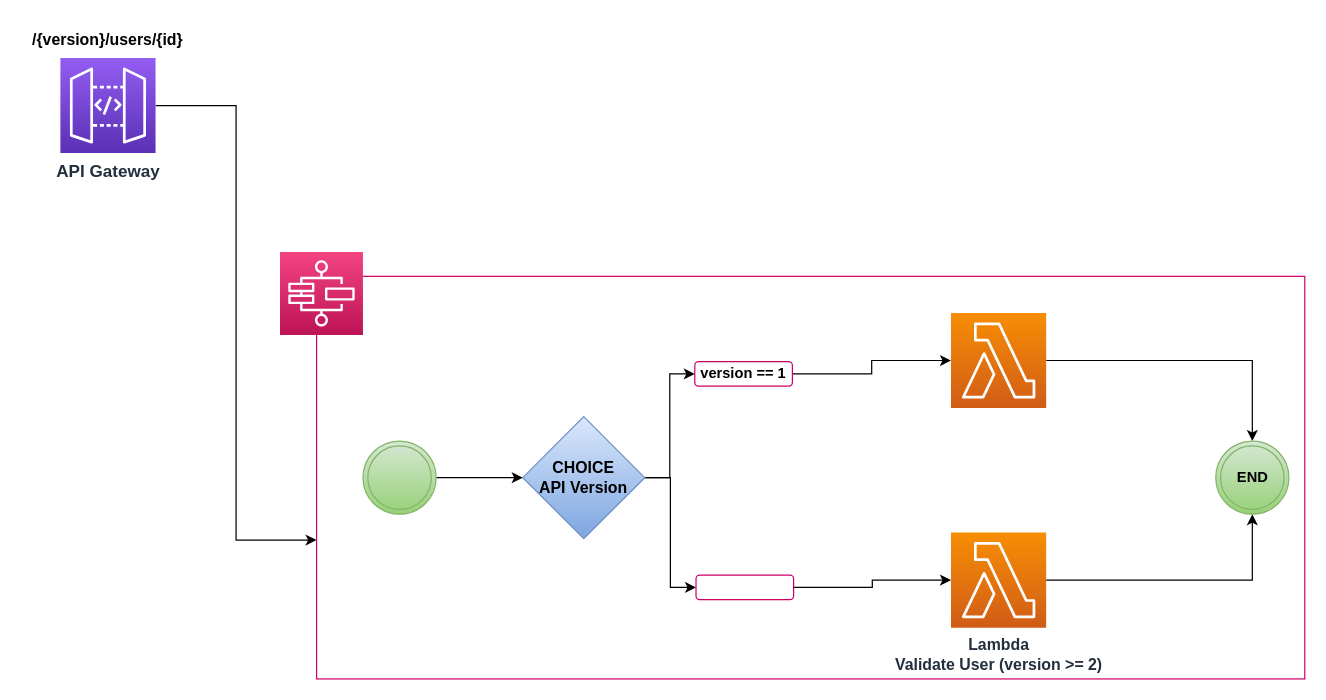
Some shapes in this 1326 by 700 pixel diagram are drawn without their labels. Each missing label, with the centre of its shape:
Lambda Validate User (version 1): pixel 998 360
START: pixel 399 477
version >= 2: pixel 744 587
